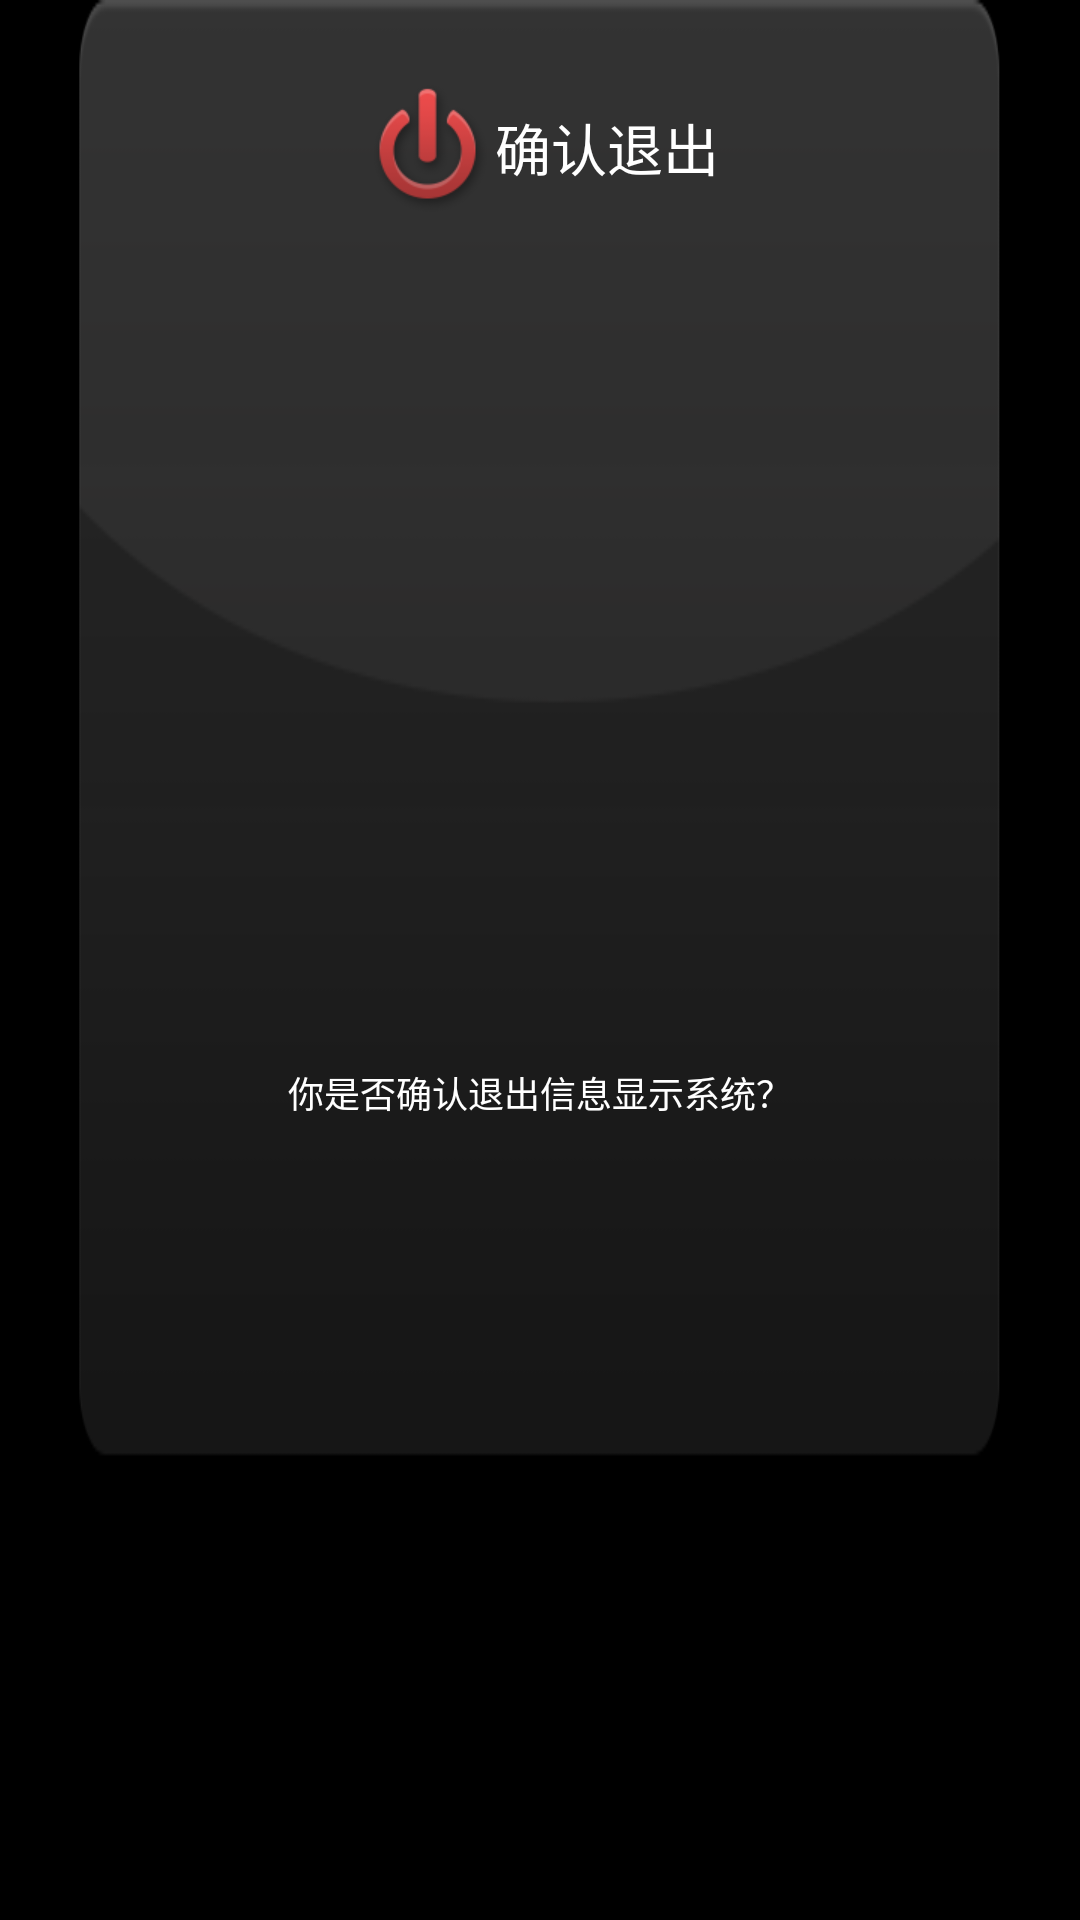

Icon bounding boxes for this 1080px x 1920px phone screenshot, format (x1, y1, x2, y2):
exit tag: (379, 88, 476, 199)
